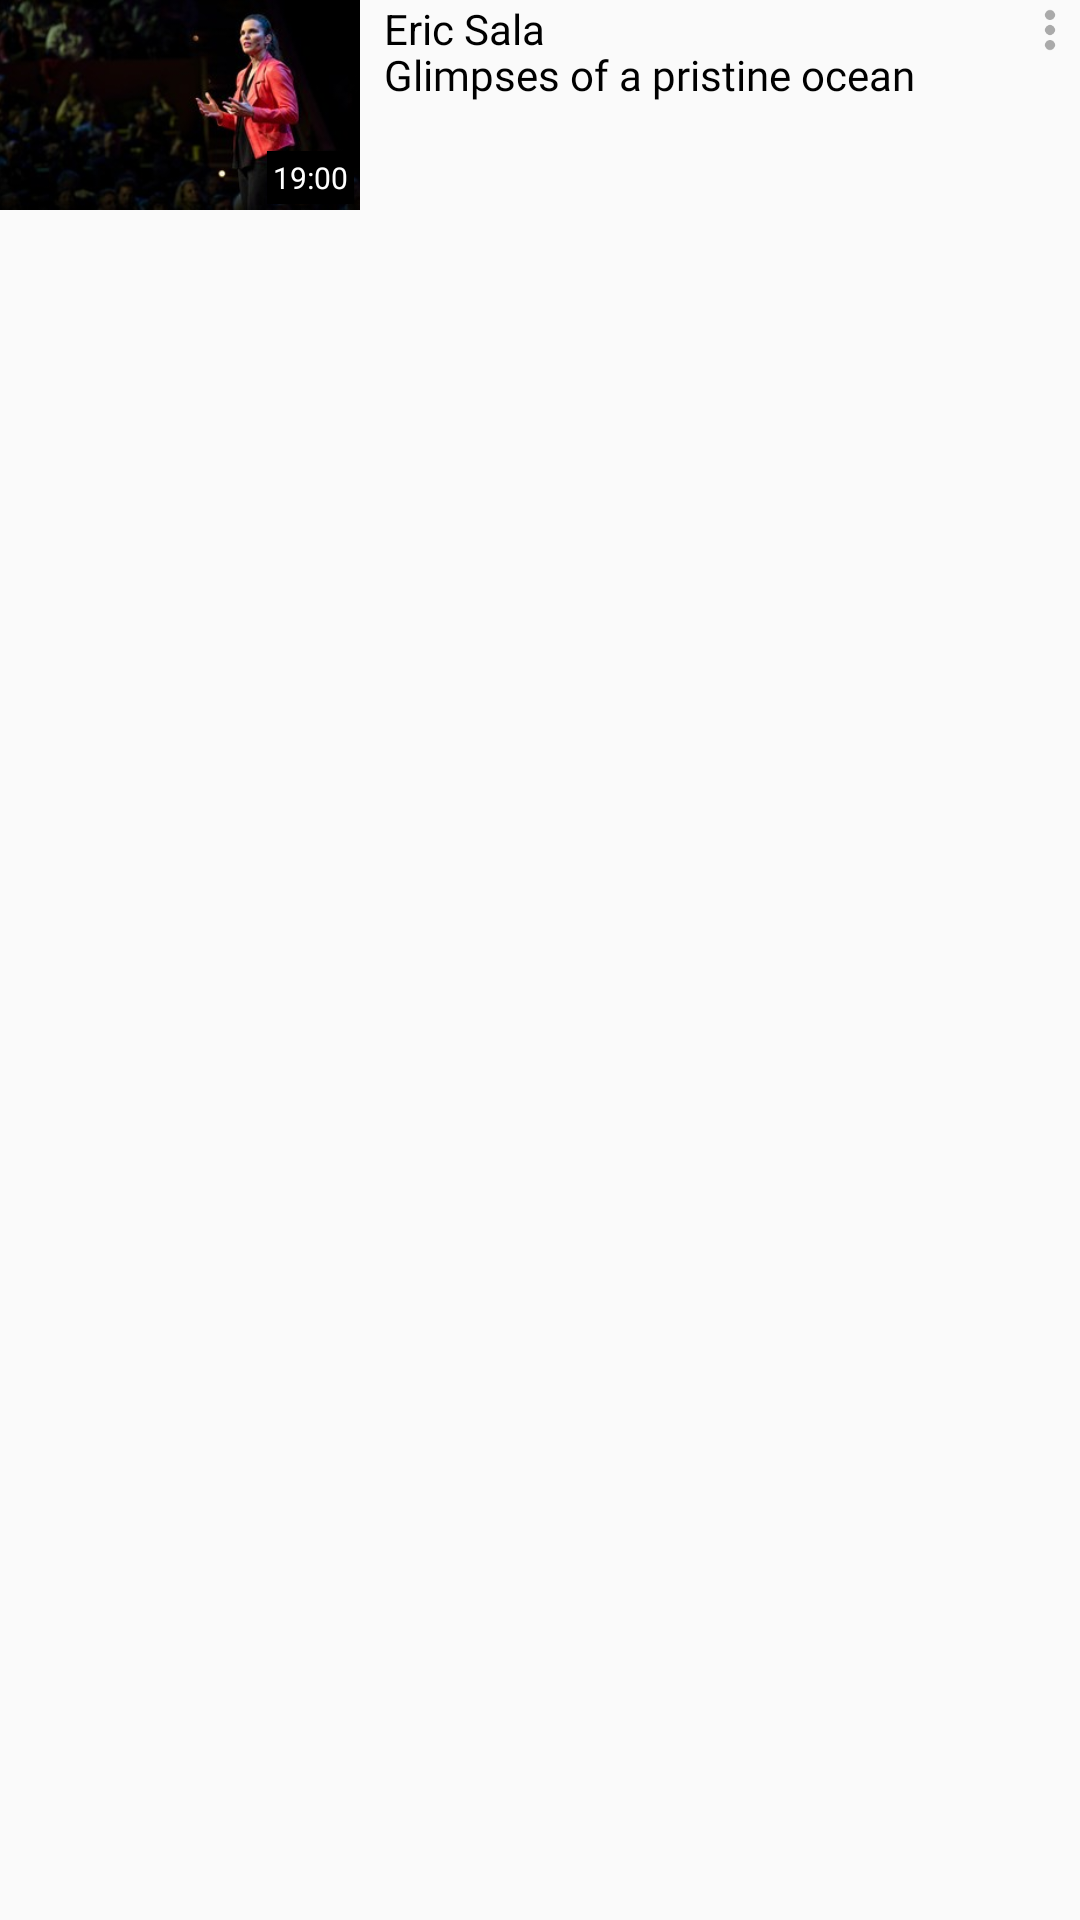

Icon click points for this 1080 x 1920 phone screenshot, format (x,y):
more vert: (1050,30)
ted talk watch next: (180,105)
